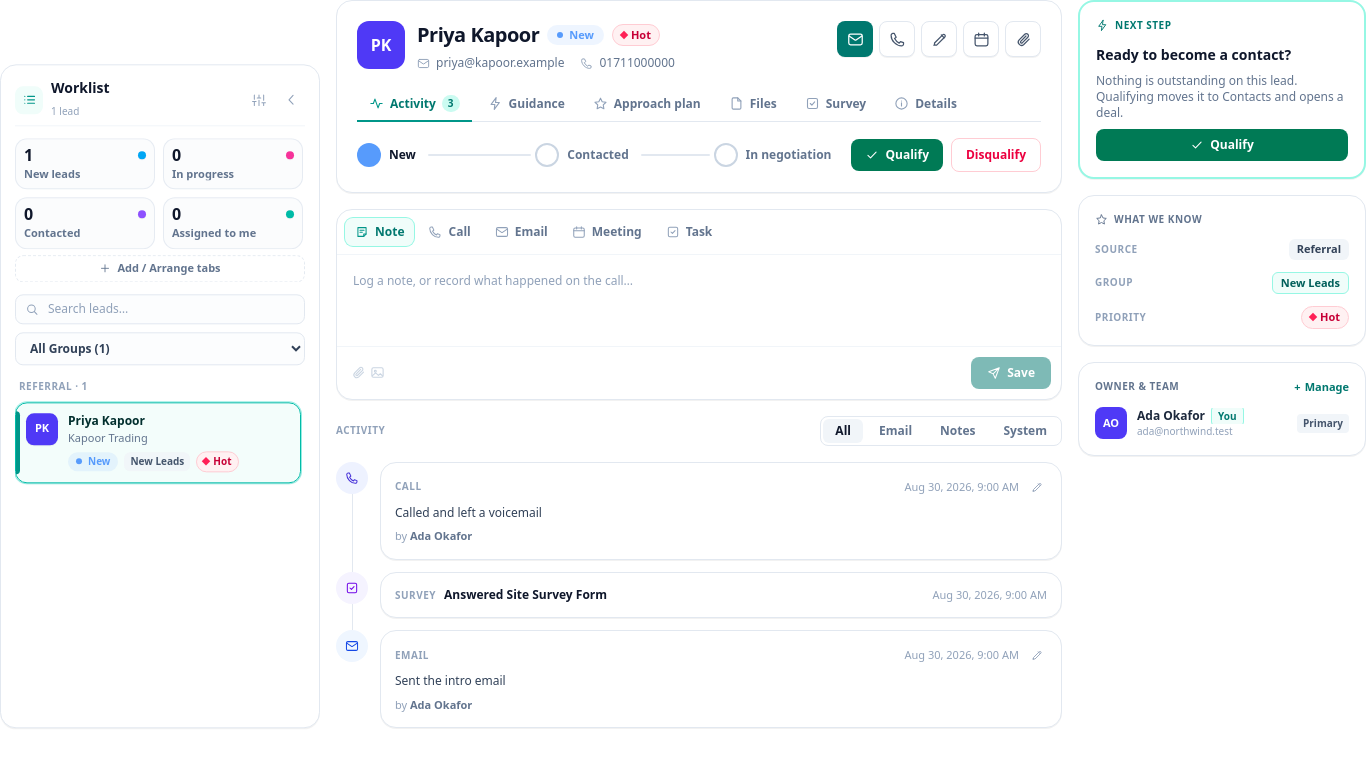
LeadWorkspace › the Activity feed › interleaves person activities and system audit events, and filters between them
Expected: the text "Called and left a voicemail" is shown, [395,504,542,521]
Expected: the text "Answered Site Survey Form" is shown, [444,587,607,603]
Click the tab "System".
click(1025, 431)  # box [992,419,1059,443]
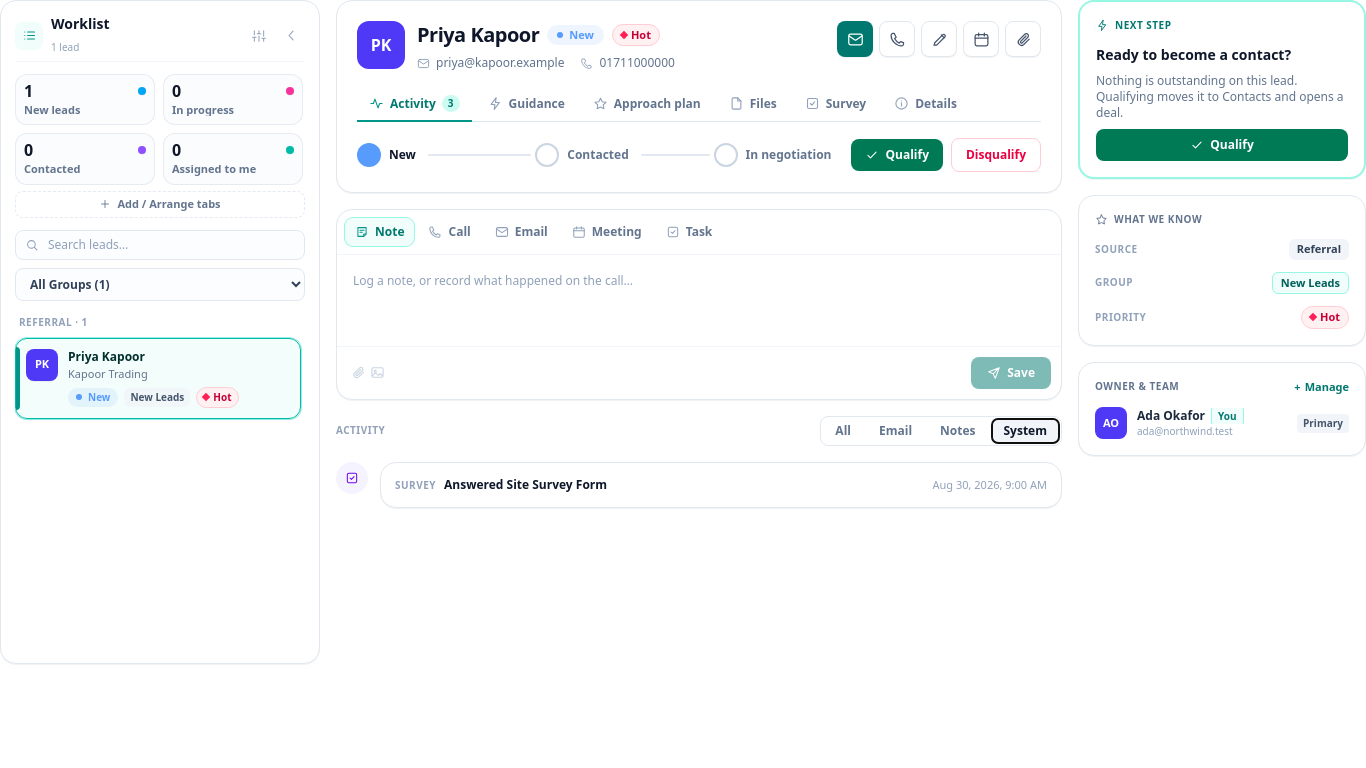
Expected: the text "Answered Site Survey Form" is shown, [444,477,607,493]
Expected: the text "Called and left a voicemail" is gone
Click the tab "Notes".
click(958, 431)  # box [928,419,988,443]
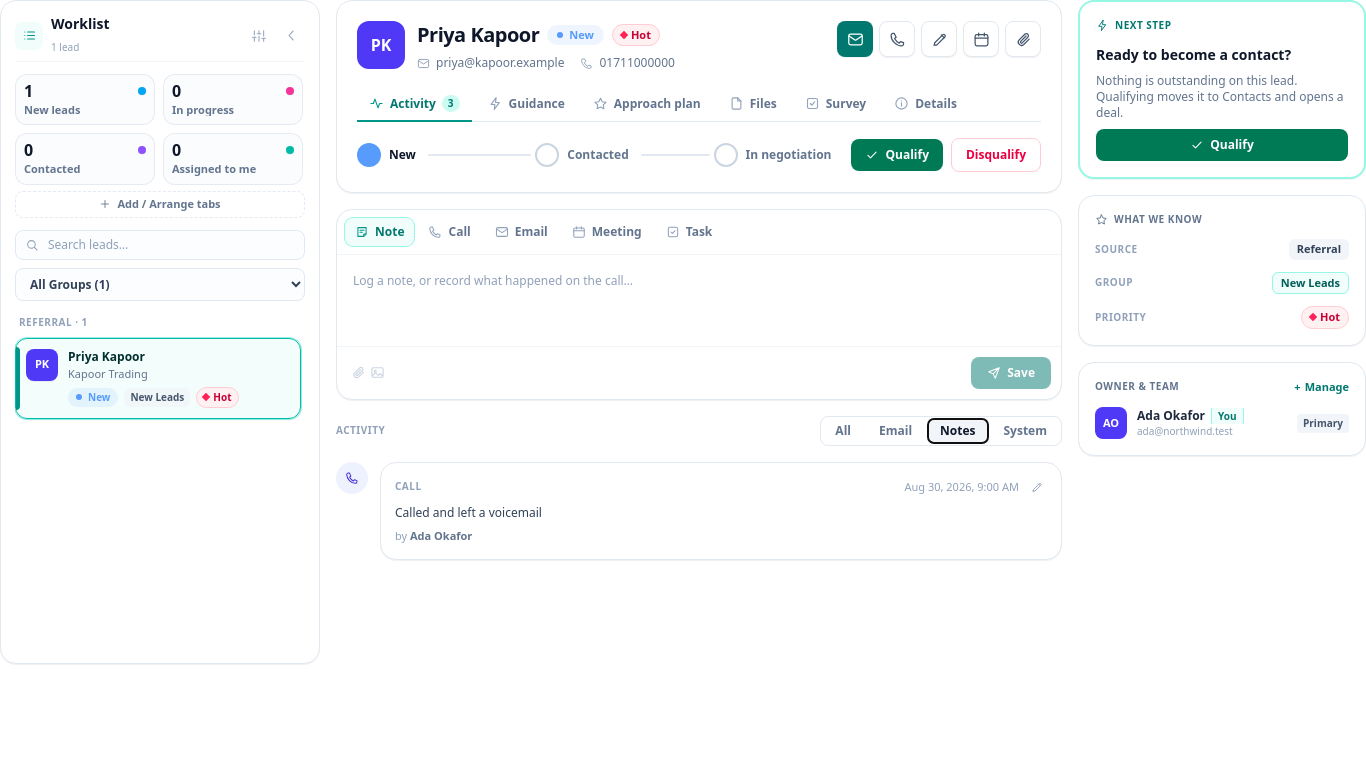
Expected: the text "Sent the intro email" is not shown
Expected: the text "Called and left a voicemail" is shown, [395,504,542,521]
Expected: the text "Answered Site Survey Form" is gone
